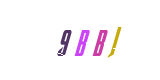9: (25, 0, 105, 80)
B: (39, 0, 119, 80), (49, 0, 129, 80)
J: (75, 0, 155, 80)
